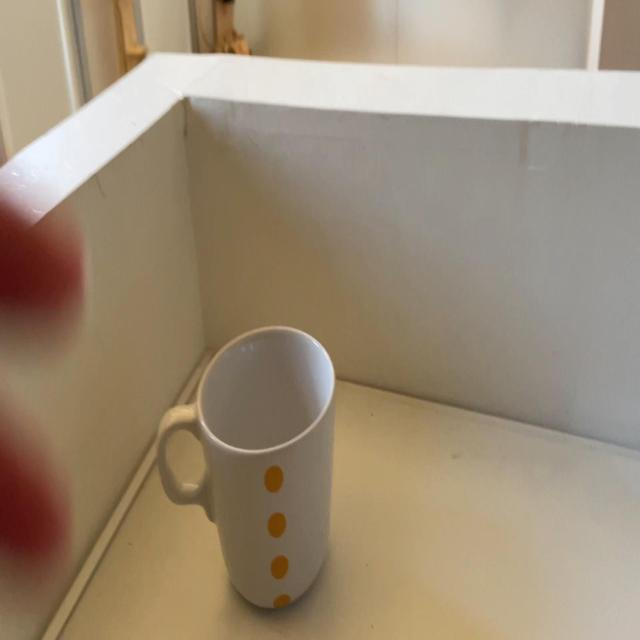cup: (156, 326, 337, 613)
